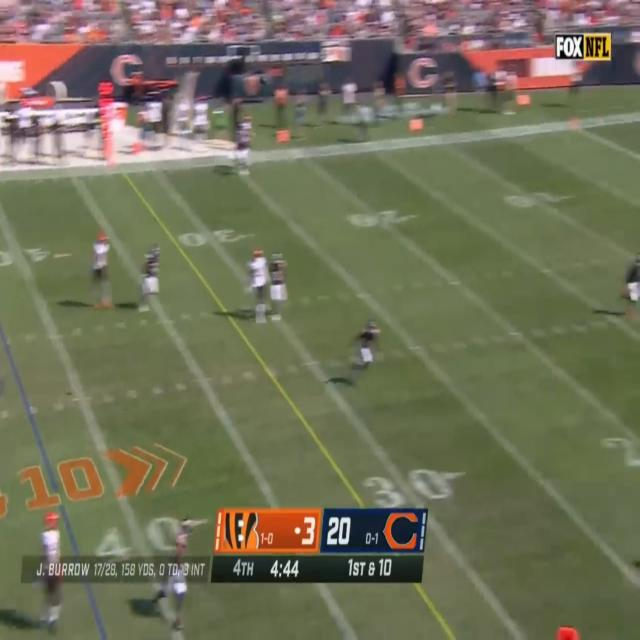Ball: (260, 73, 268, 87)
